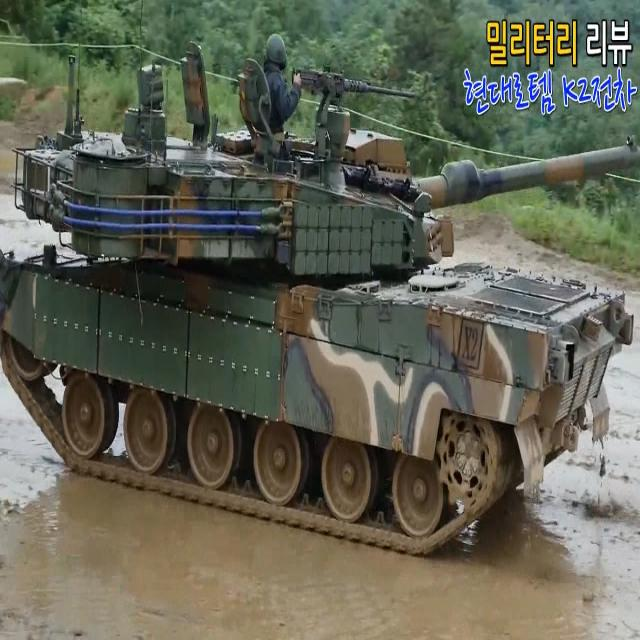korea tank: (0, 29, 640, 559)
